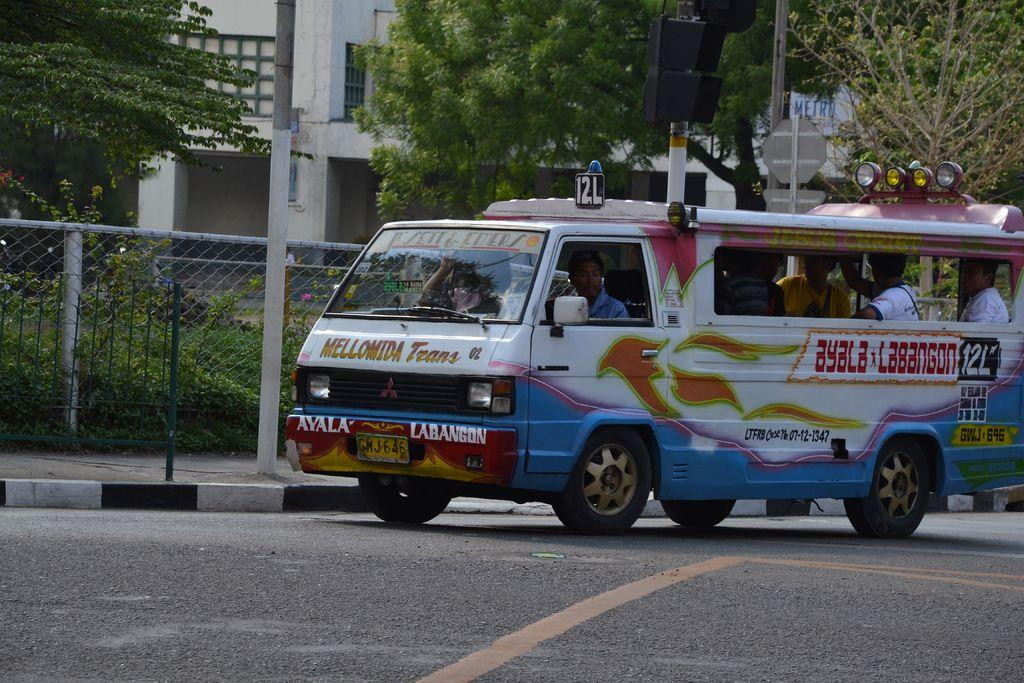vehicle: (284, 160, 1024, 539)
